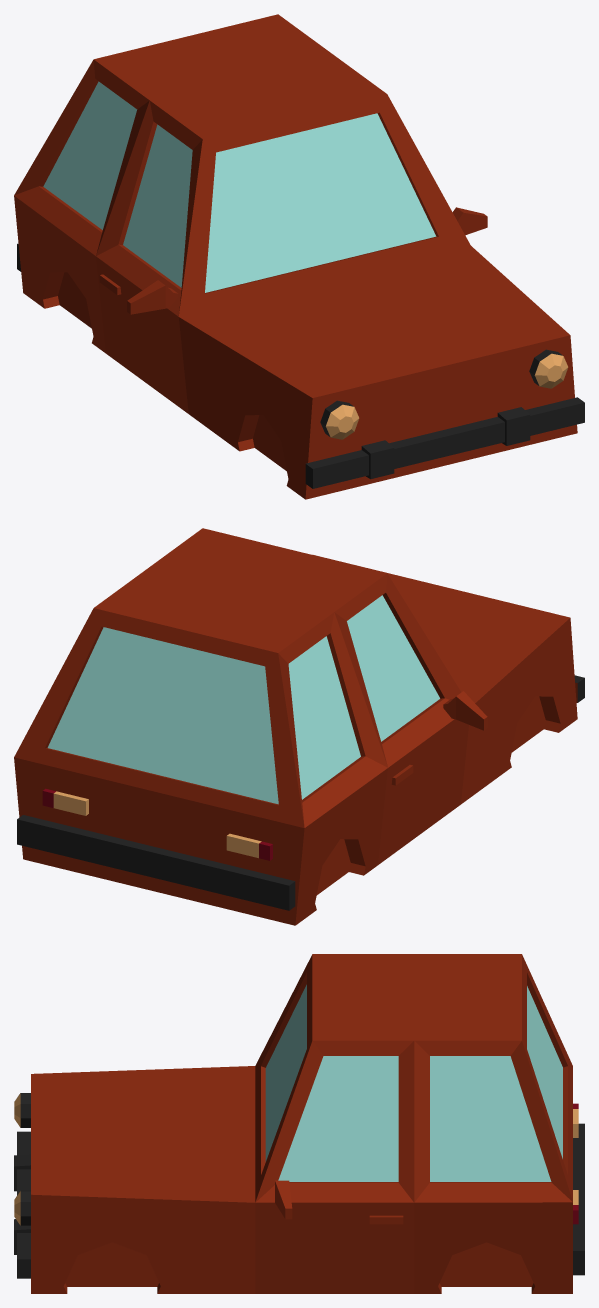
Rendered from Araba.fbx.
3 renders of one model, top to bottom at view 1: azimuth 30°, elevation 25°; view 2: azimuth 150°, elevation 25°; view 3: azimuth 270°, elevation 25°, orthographic. The views are drawn at different scales.
Visible parts, largest first — view 1: Cube; view 2: Cube; view 3: Cube.
Part boxes in pixels (<box>): Cube: <box>14,14,584,499</box>; Cube: <box>14,528,584,925</box>; Cube: <box>14,954,584,1293</box>.
Bounding box in the file's own units: 190 × 124 × 275.
